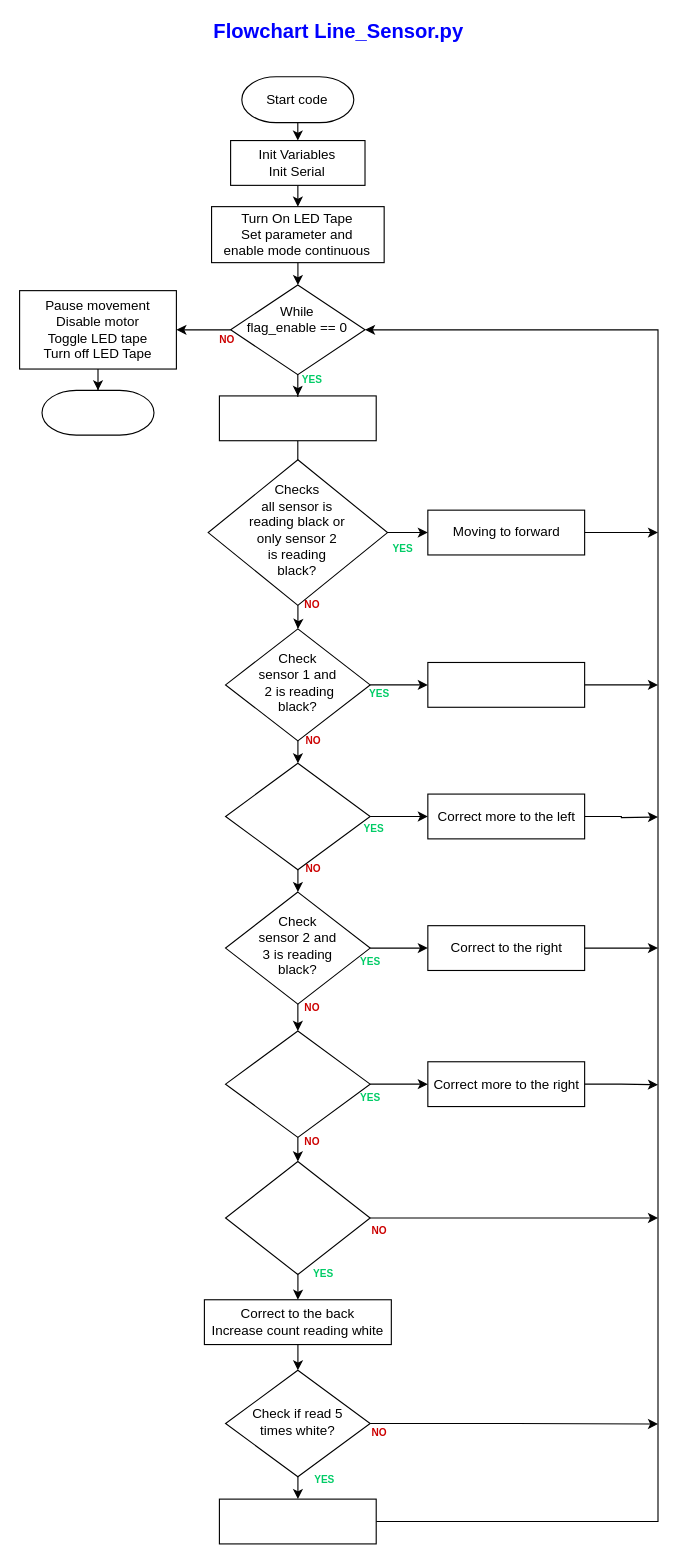
Some shapes in this 687 by 1564 pixel diagram are drawn without their labels. Here are the shapes that lost their labels. From the top down, the box of each, then its label:
(41, 389, 154, 435): End code
(218, 395, 376, 441): Read sonar sensor and store sensor data
(427, 661, 585, 707): Correct to the left
(224, 762, 370, 870): Check sensor 1 is reading black?
(224, 1030, 370, 1137): Check sensor 3 is reading black?
(224, 1160, 370, 1275): Check all sensor is reading white?
(218, 1498, 376, 1544): Clear flag_enable
